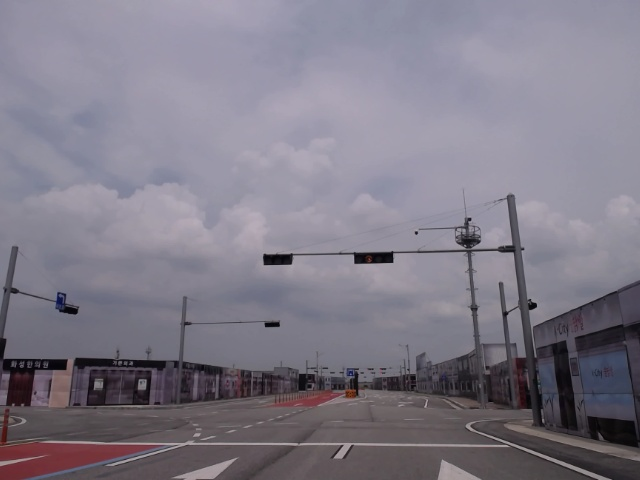orange_4: (352, 250, 395, 265)
